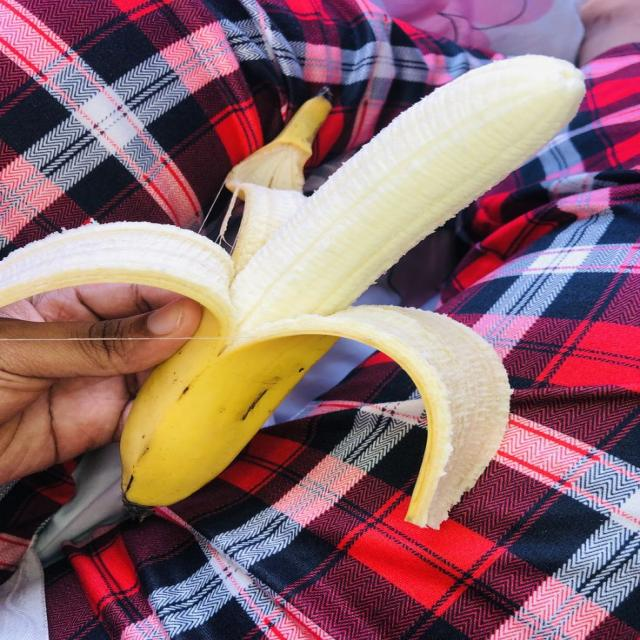banana: (0, 57, 584, 526), (226, 89, 331, 198)
